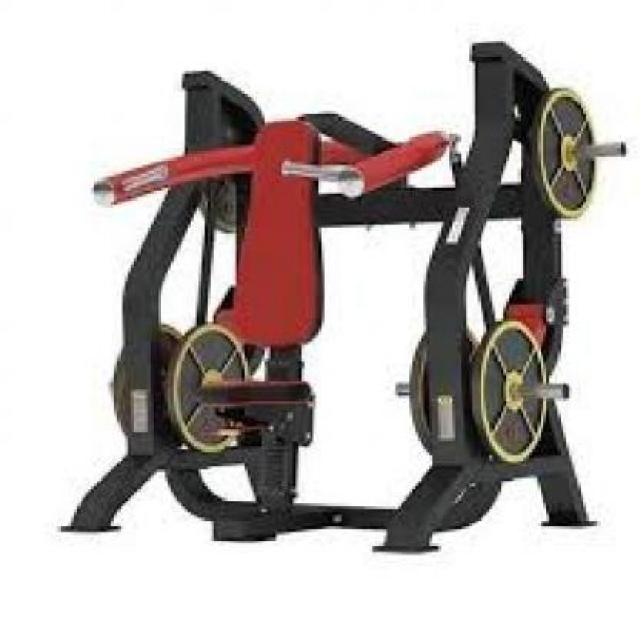shoulder press machine: (62, 40, 629, 554)
